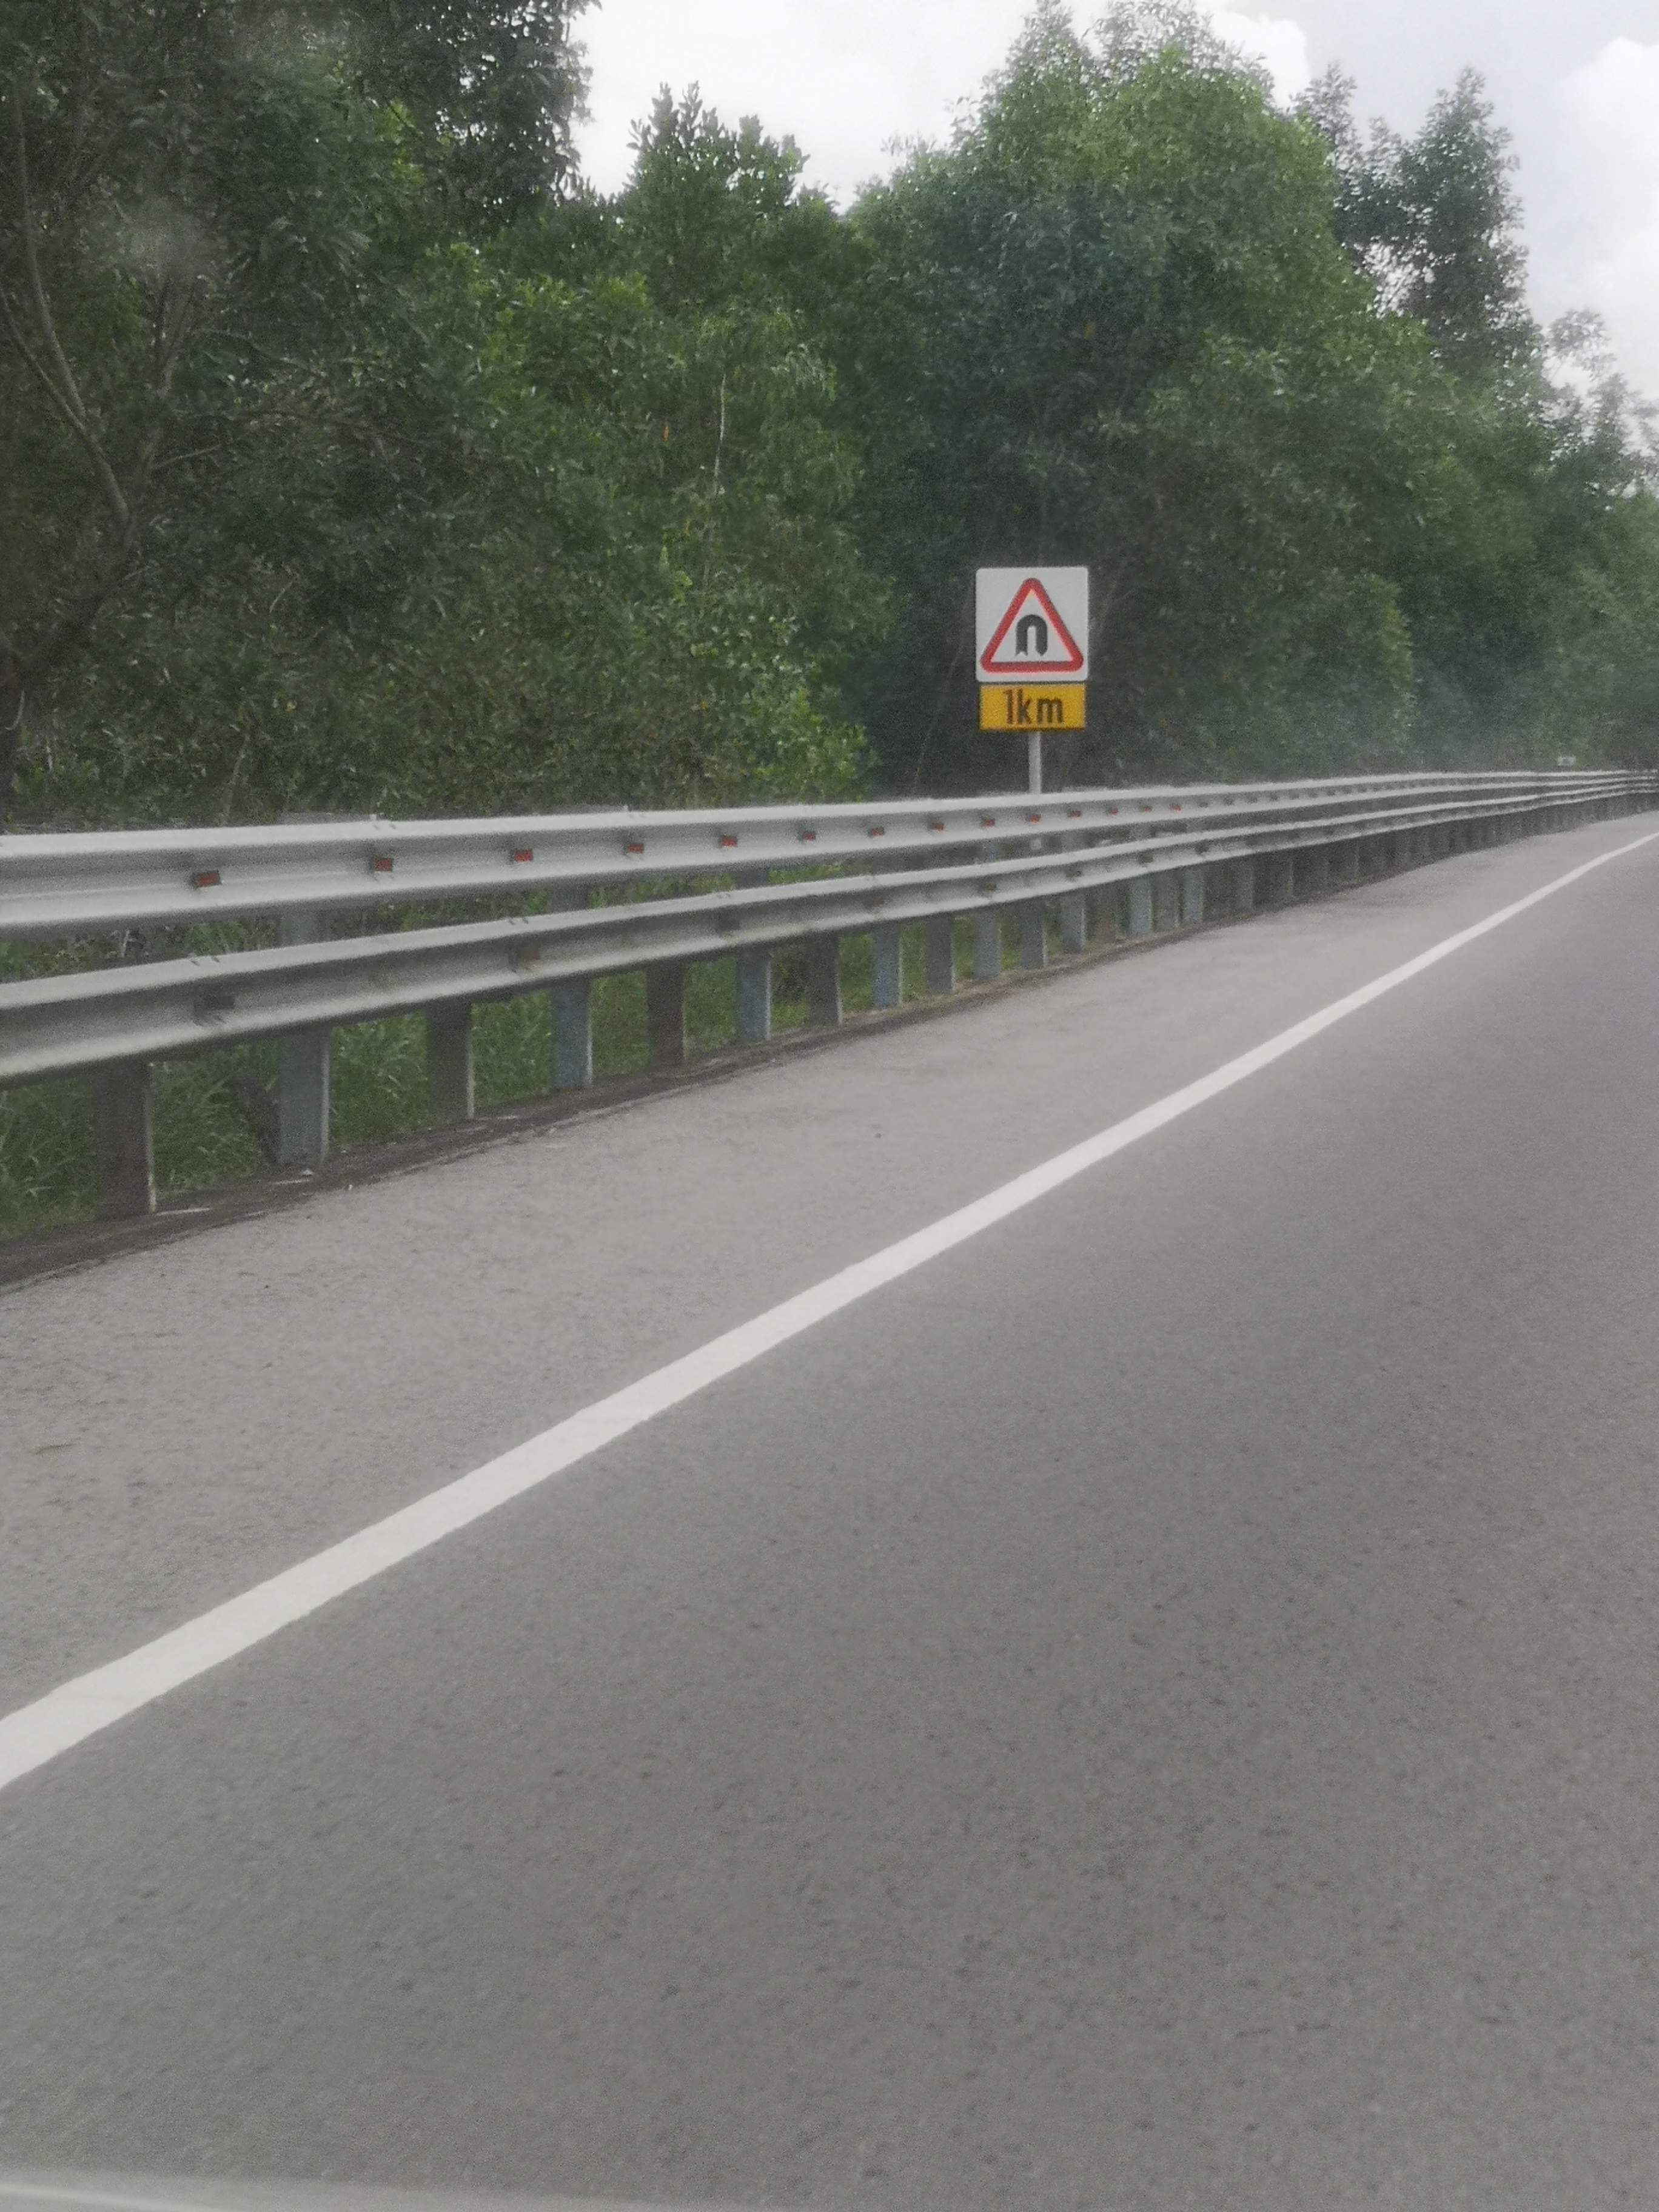U-turn: (969, 557, 1093, 679)
